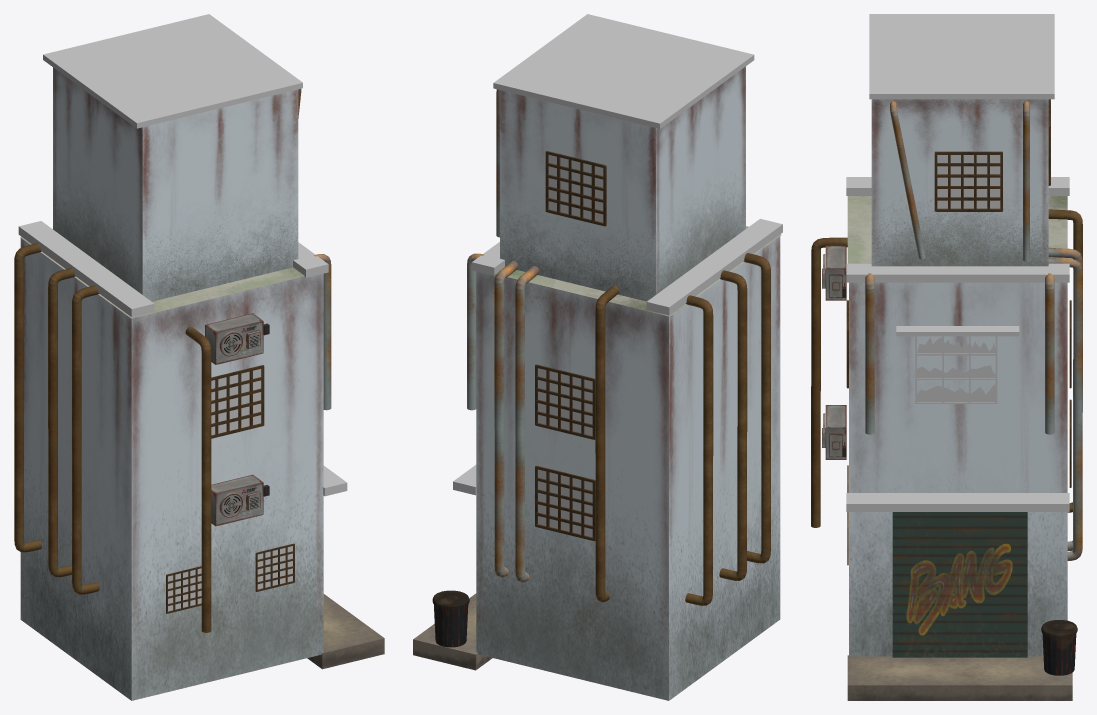
File: Nha 2.3.fbx
3 renders of one model, left to right at view 1: azimuth 30°, elevation 25°; view 2: azimuth 150°, elevation 25°; view 3: azimuth 270°, elevation 25°, orthographic.
Visible parts, largest first — view 1: tuong xanh 2.004, Tuong xanh 1.004, Tuong xanh 1.006, tuong xanh 2.005, Cube.064, Cube.063, Cube.062, cot ngang mau xanh 2.006, Ong ri set.023, Ong ri set.012, Ong ri set.013, thanh cua rir sets .031 (+9 smaller); view 2: tuong xanh 2.003, Tuong xanh 1.004, Tuong xanh 1.005, tuong xanh 2.005, Cube.064, Cube.063, Cube.062, thanh cua rir sets .028, thanh cua rir sets .027, thanh cua rir sets .030, cot ngang mau xanh 2.006, Ong ri set.014 (+15 smaller); view 3: Tuong xanh 1.003, tuong xanh 2.006, cua cuon.003, Them nha.008, Cube.064, Cube.063, cot ngang mau xanh 2.007, thanh cua rir sets .029, Cube.062, cot ngang mau xanh 2.005, Ong ri set.023, tuong vang 2.002 (+17 smaller).
Boxes of the visible parts, x1,y1,x2,y2 form: tuong xanh 2.004: [131, 273, 323, 700]; Tuong xanh 1.004: [20, 238, 131, 700]; Tuong xanh 1.006: [142, 89, 298, 301]; tuong xanh 2.005: [53, 67, 142, 294]; Cube.064: [147, 14, 302, 103]; Cube.063: [86, 29, 240, 117]; Cube.062: [43, 44, 179, 128]; cot ngang mau xanh 2.006: [18, 221, 154, 317]; Ong ri set.023: [185, 326, 211, 632]; Ong ri set.012: [14, 243, 41, 552]; Ong ri set.013: [72, 285, 99, 594]; thanh cua rir sets .031: [211, 365, 264, 438]; tuong xanh 2.003: [476, 271, 668, 700]; Tuong xanh 1.004: [669, 236, 780, 700]; Tuong xanh 1.005: [500, 90, 655, 301]; tuong xanh 2.005: [656, 66, 745, 294]; Cube.064: [493, 14, 650, 103]; Cube.063: [556, 29, 710, 118]; Cube.062: [616, 44, 754, 128]; thanh cua rir sets .028: [545, 151, 606, 226]; thanh cua rir sets .027: [535, 364, 595, 439]; thanh cua rir sets .030: [535, 466, 595, 540]; cot ngang mau xanh 2.006: [646, 218, 782, 315]; Ong ri set.014: [719, 270, 747, 580]; Tuong xanh 1.003: [849, 282, 1067, 656]; tuong xanh 2.006: [871, 99, 1048, 266]; cua cuon.003: [892, 512, 1027, 657]; Them nha.008: [847, 655, 1072, 700]; Cube.064: [869, 63, 1054, 99]; Cube.063: [869, 34, 1054, 63]; cot ngang mau xanh 2.007: [846, 493, 1069, 511]; thanh cua rir sets .029: [934, 151, 1002, 211]; Cube.062: [869, 14, 1054, 34]; cot ngang mau xanh 2.005: [846, 263, 1069, 282]; Ong ri set.023: [811, 237, 847, 527]; tuong vang 2.002: [847, 196, 1067, 263].
Size of the model in its own units: 658 by 1318 by 567.
